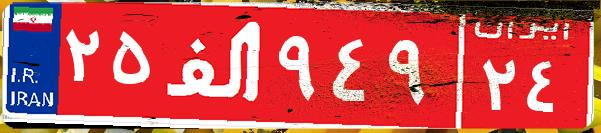2: (57, 26, 110, 107), (475, 38, 525, 113)
4: (330, 28, 385, 110), (525, 38, 570, 115)
5: (110, 28, 158, 105)
9: (385, 28, 445, 110), (273, 28, 330, 110)
الف: (158, 15, 273, 115)
